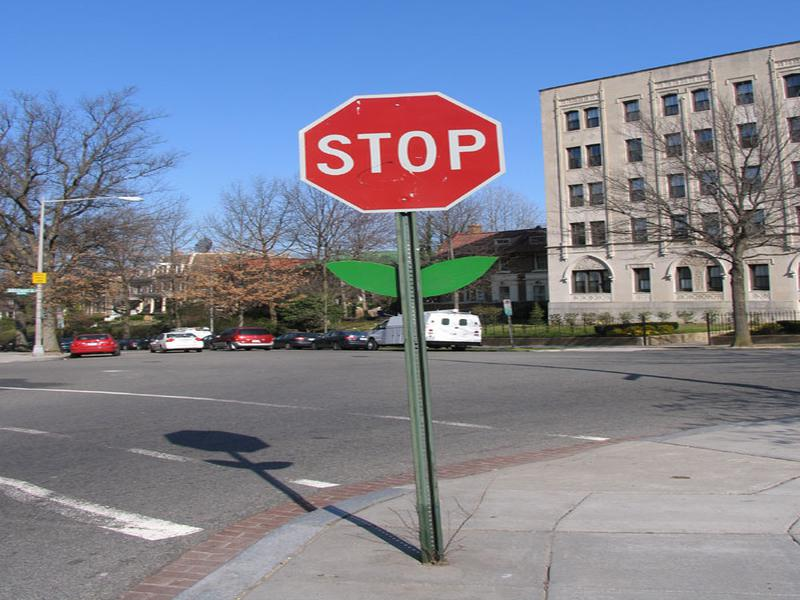stop: (295, 88, 510, 214)
